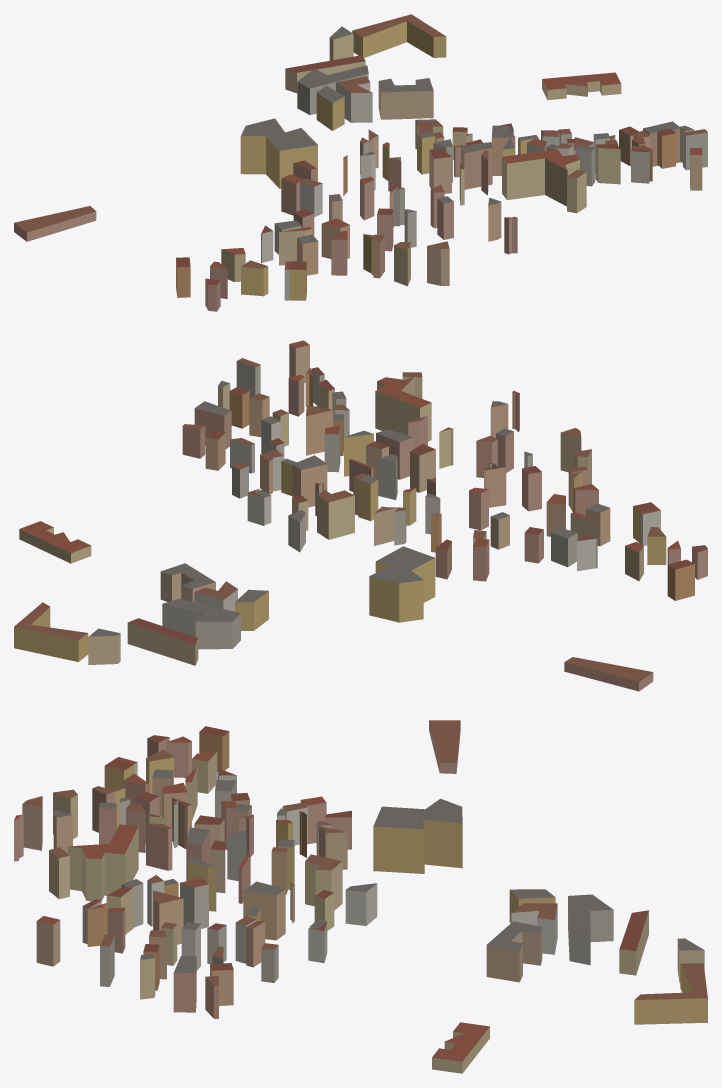
File: SM_Fondale_Citta_NO_01_LOD2.fbx
3 views of the same model, one above another, from view 1: azimuth 30°, elevation 25°; view 2: azimuth 150°, elevation 25°; view 3: azimuth 270°, elevation 25° (orthographic). The views are drawn at different scales.
Visible parts, largest first — view 1: SM_Fondale_Citta_NO_01_LOD2; view 2: SM_Fondale_Citta_NO_01_LOD2; view 3: SM_Fondale_Citta_NO_01_LOD2.
Boxes of the visible parts, <box> form: SM_Fondale_Citta_NO_01_LOD2: <box>14,14,707,311</box>; SM_Fondale_Citta_NO_01_LOD2: <box>14,340,707,691</box>; SM_Fondale_Citta_NO_01_LOD2: <box>14,720,707,1073</box>.
Bounding box in the file's own units: 57318 × 48767 × 8498.
